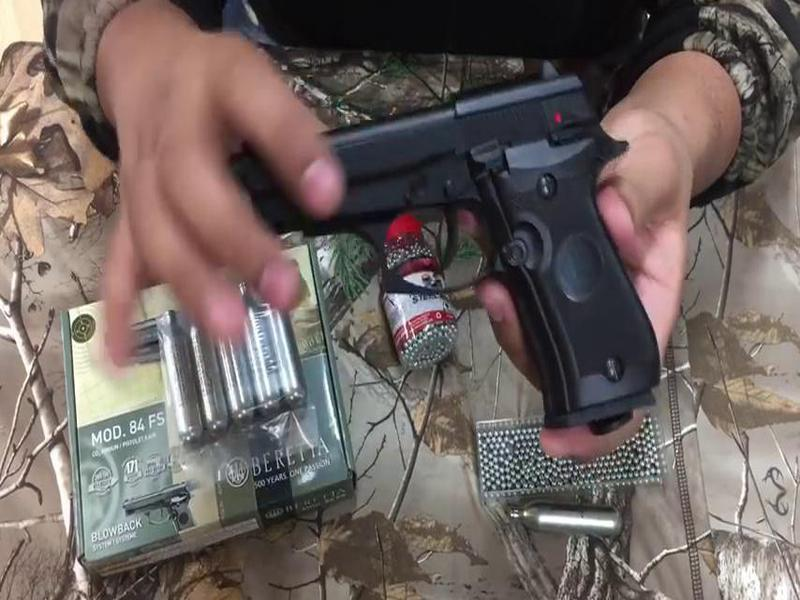Pistola: (222, 68, 670, 429)
